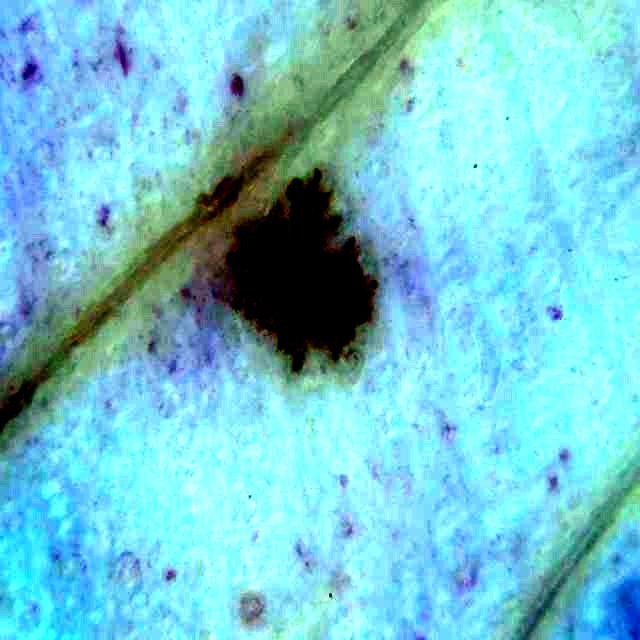MEL: (229, 171, 377, 368)
